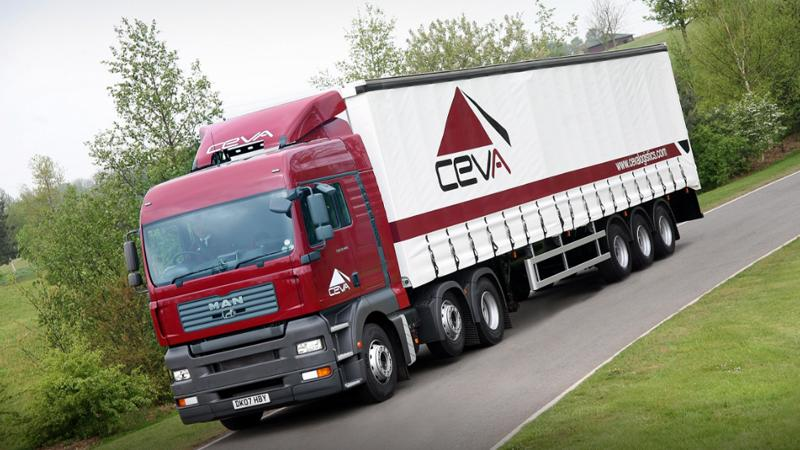truck: (115, 42, 709, 428)
